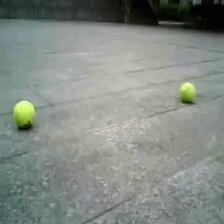tennis: (13, 101, 35, 129), (179, 81, 195, 103)
